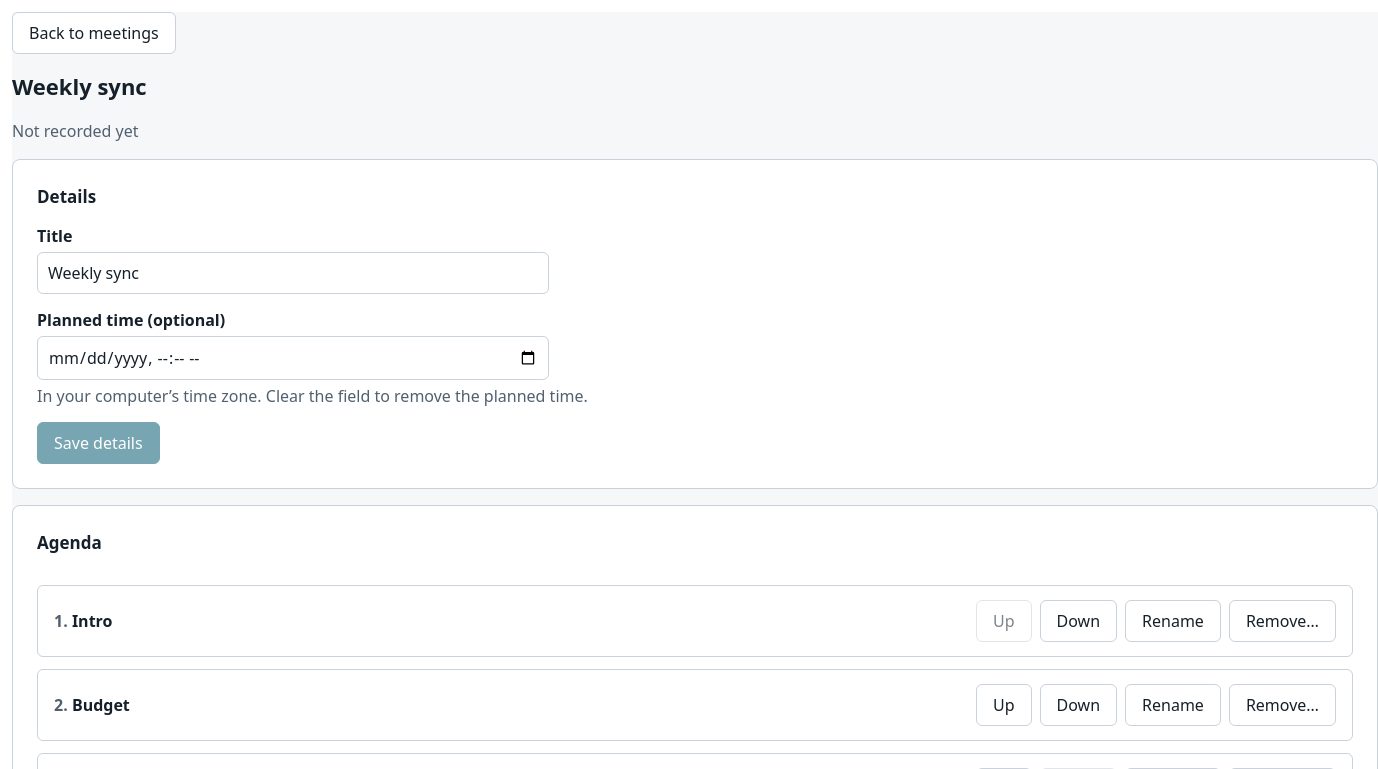
Test: saving the details sends the revision that was loaded
Replace the text in the field labelled "Title" with "Weekly sync (moved)" at (293, 272), box x1=37 y1=252 x2=549 y2=294
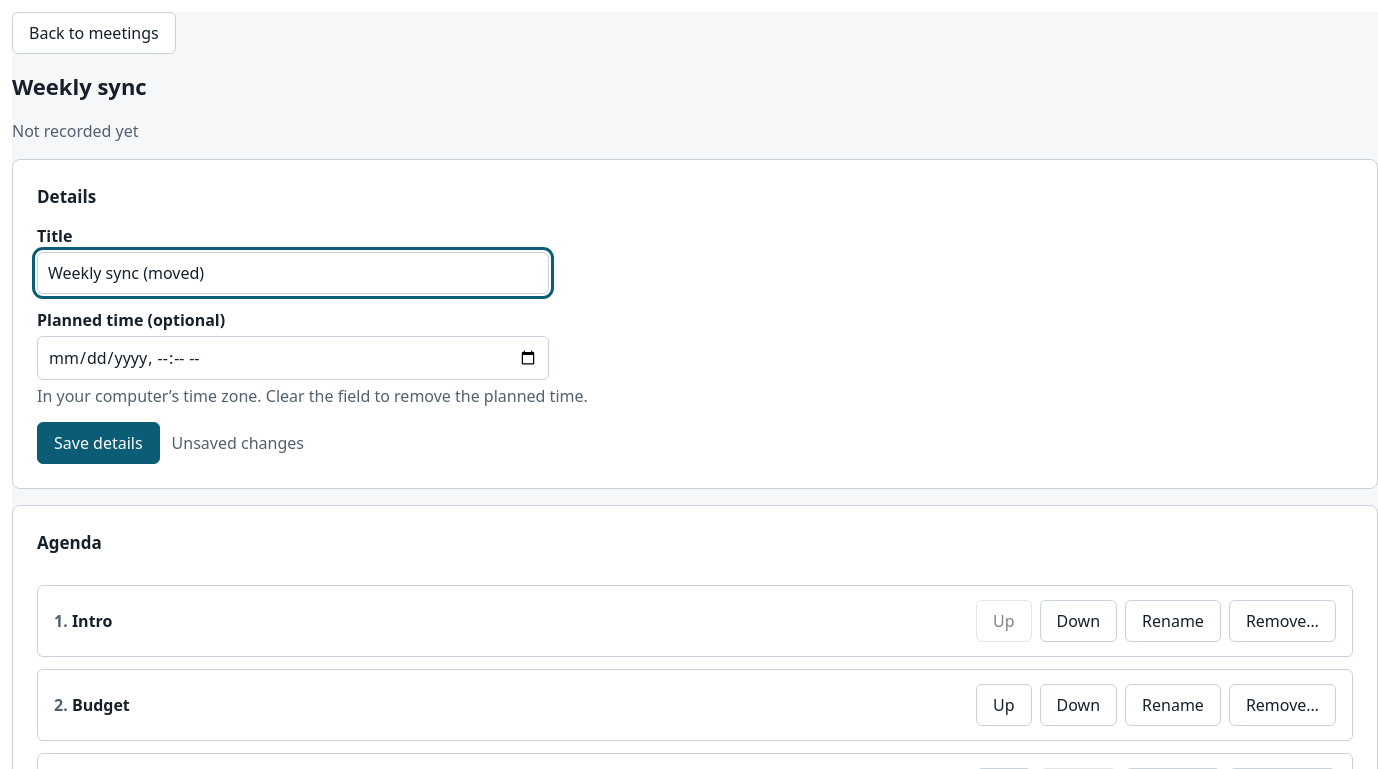
Type "2027-03-04T09:30" into the field labelled "Planned time (optional)" at (293, 358), box x1=37 y1=336 x2=549 y2=380
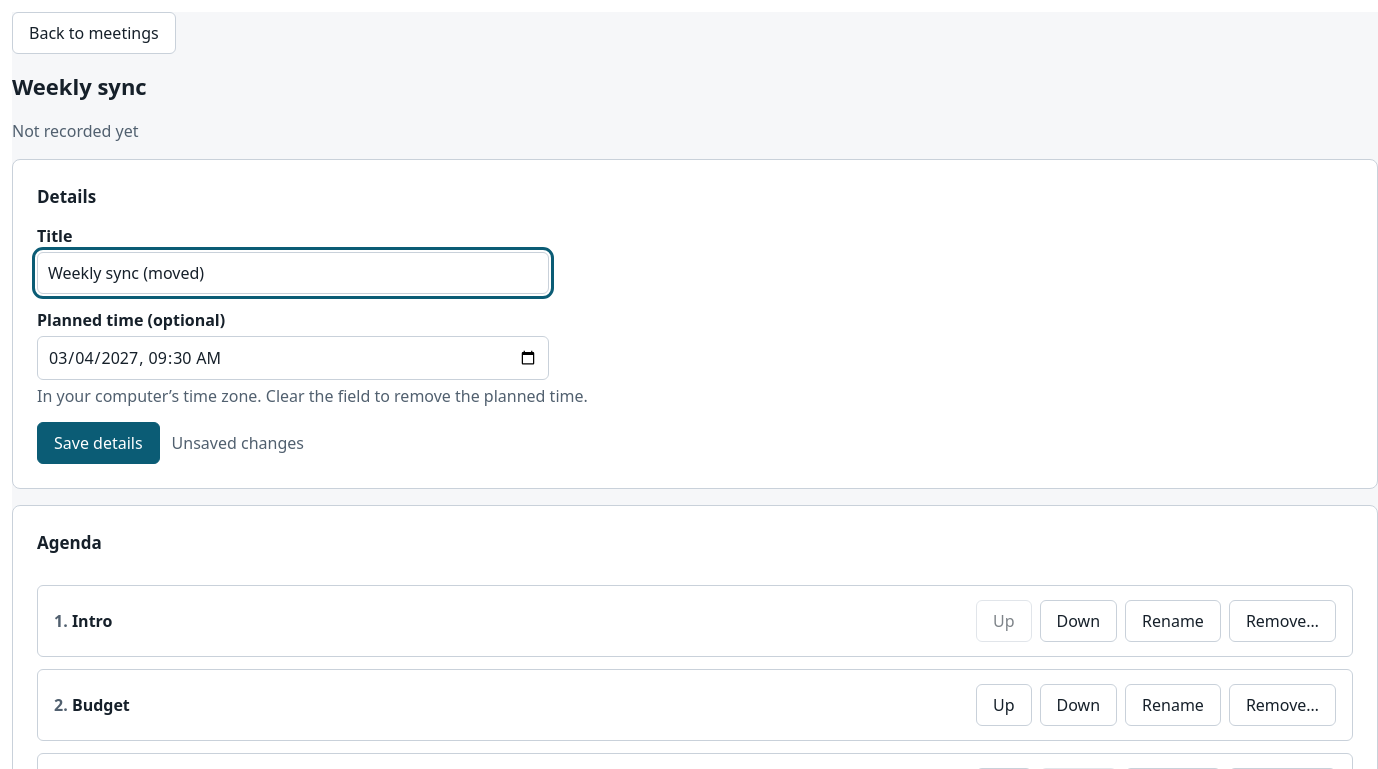
Expected: the text "Unsaved changes" is shown, x1=172 y1=430 x2=304 y2=454
Click the button "Save details" at (98, 442), box x1=37 y1=422 x2=160 y2=464
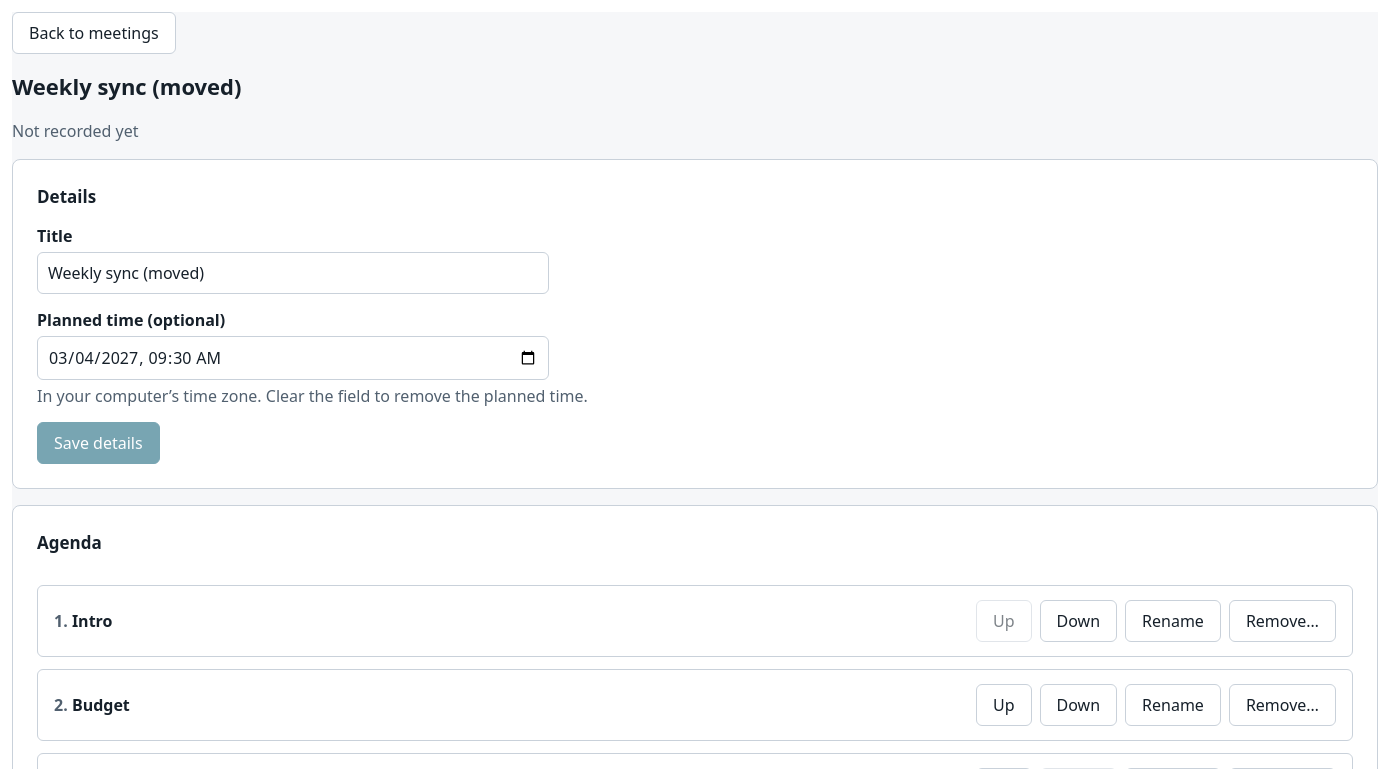
Expected: the heading "Weekly sync (moved)" is shown, x1=12 y1=71 x2=242 y2=101
Expected: the text "Unsaved changes" is gone
